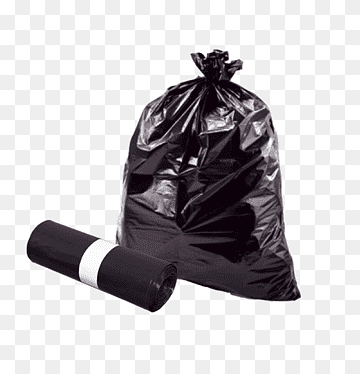plastic_bagwdw: (88, 21, 339, 342)
